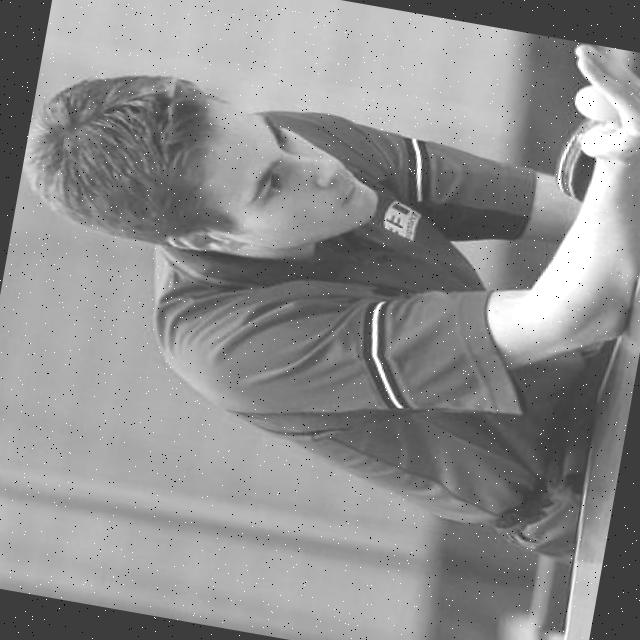ping-pong-ball: (569, 79, 630, 124)
